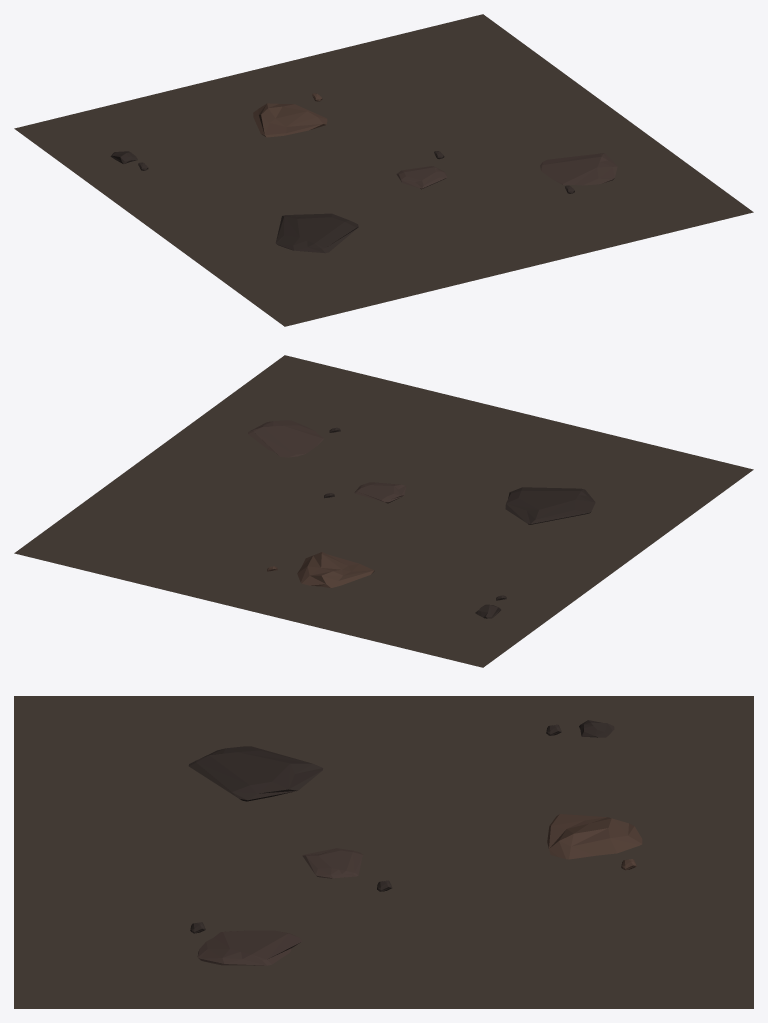
Rendered from Floor3.glb.
3 views of the same model, one above another, from view 1: azimuth 30°, elevation 25°; view 2: azimuth 150°, elevation 25°; view 3: azimuth 270°, elevation 25° (orthographic). The views are drawn at different scales.
Visible parts, largest first — view 1: world; view 2: world; view 3: world.
Boxes of the visible parts, <box> form: world: <box>14,14,753,326</box>; world: <box>14,355,753,667</box>; world: <box>14,696,753,1008</box>.
Bounding box in the file's own units: 600 × 31.41 × 600.
